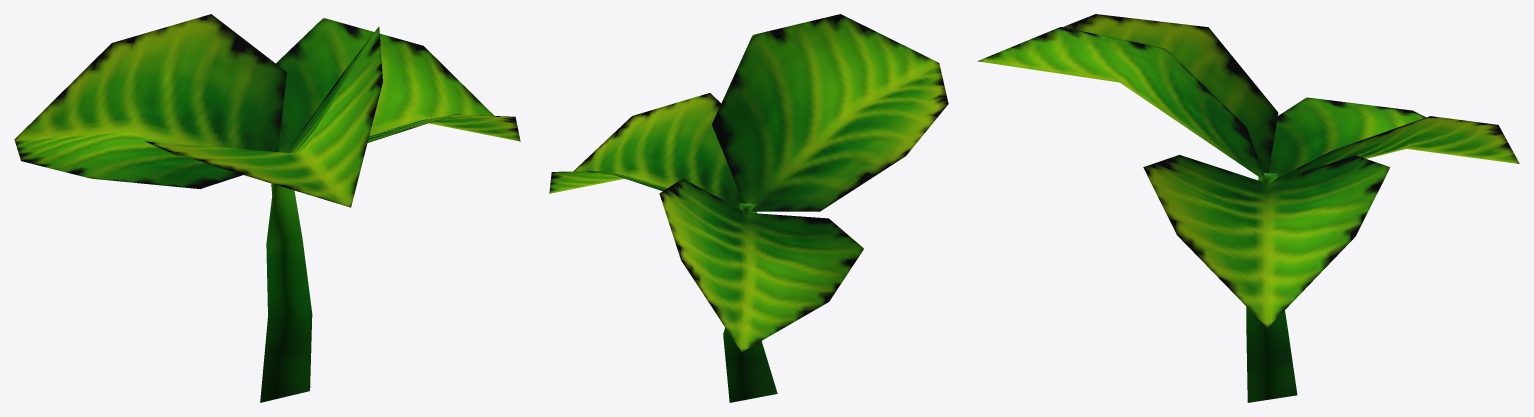
The model's file is teen43.gltf.
The picture shows the model from 3 angles, left to right: view 1: azimuth 30°, elevation 25°; view 2: azimuth 150°, elevation 25°; view 3: azimuth 270°, elevation 25°; orthographic projection. The views are drawn at different scales.
Visible parts, largest first — view 1: teen43; view 2: teen43; view 3: teen43.
Boxes of the visible parts, left/top/right/bottom form: teen43: left=14, top=14, right=520, bottom=402; teen43: left=549, top=14, right=948, bottom=402; teen43: left=977, top=14, right=1519, bottom=402.
Size of the model in its own units: 51.11 by 45.28 by 60.84.
2 materials, 2 textured.
